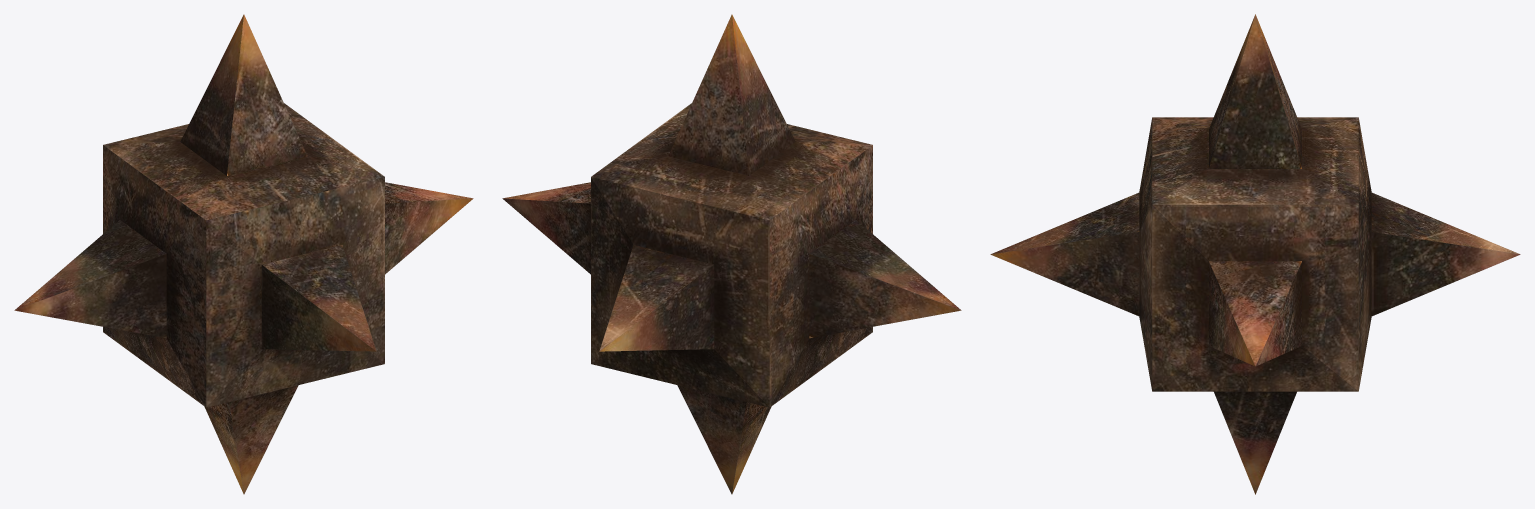
The model's file is Pinche Listo.fbx.
3 renders of one model, left to right at view 1: azimuth 30°, elevation 25°; view 2: azimuth 150°, elevation 25°; view 3: azimuth 270°, elevation 25°, orthographic.
Parts seen in each view (by area): view 1: Cube; view 2: Cube; view 3: Cube.
Part boxes in pixels (x1,y1,x2,y2): Cube: (14, 14, 473, 494); Cube: (502, 14, 961, 494); Cube: (990, 14, 1520, 494).
Bounding box in the file's own units: 621 × 621 × 621.
Materials: 1 (1 with a texture image).
